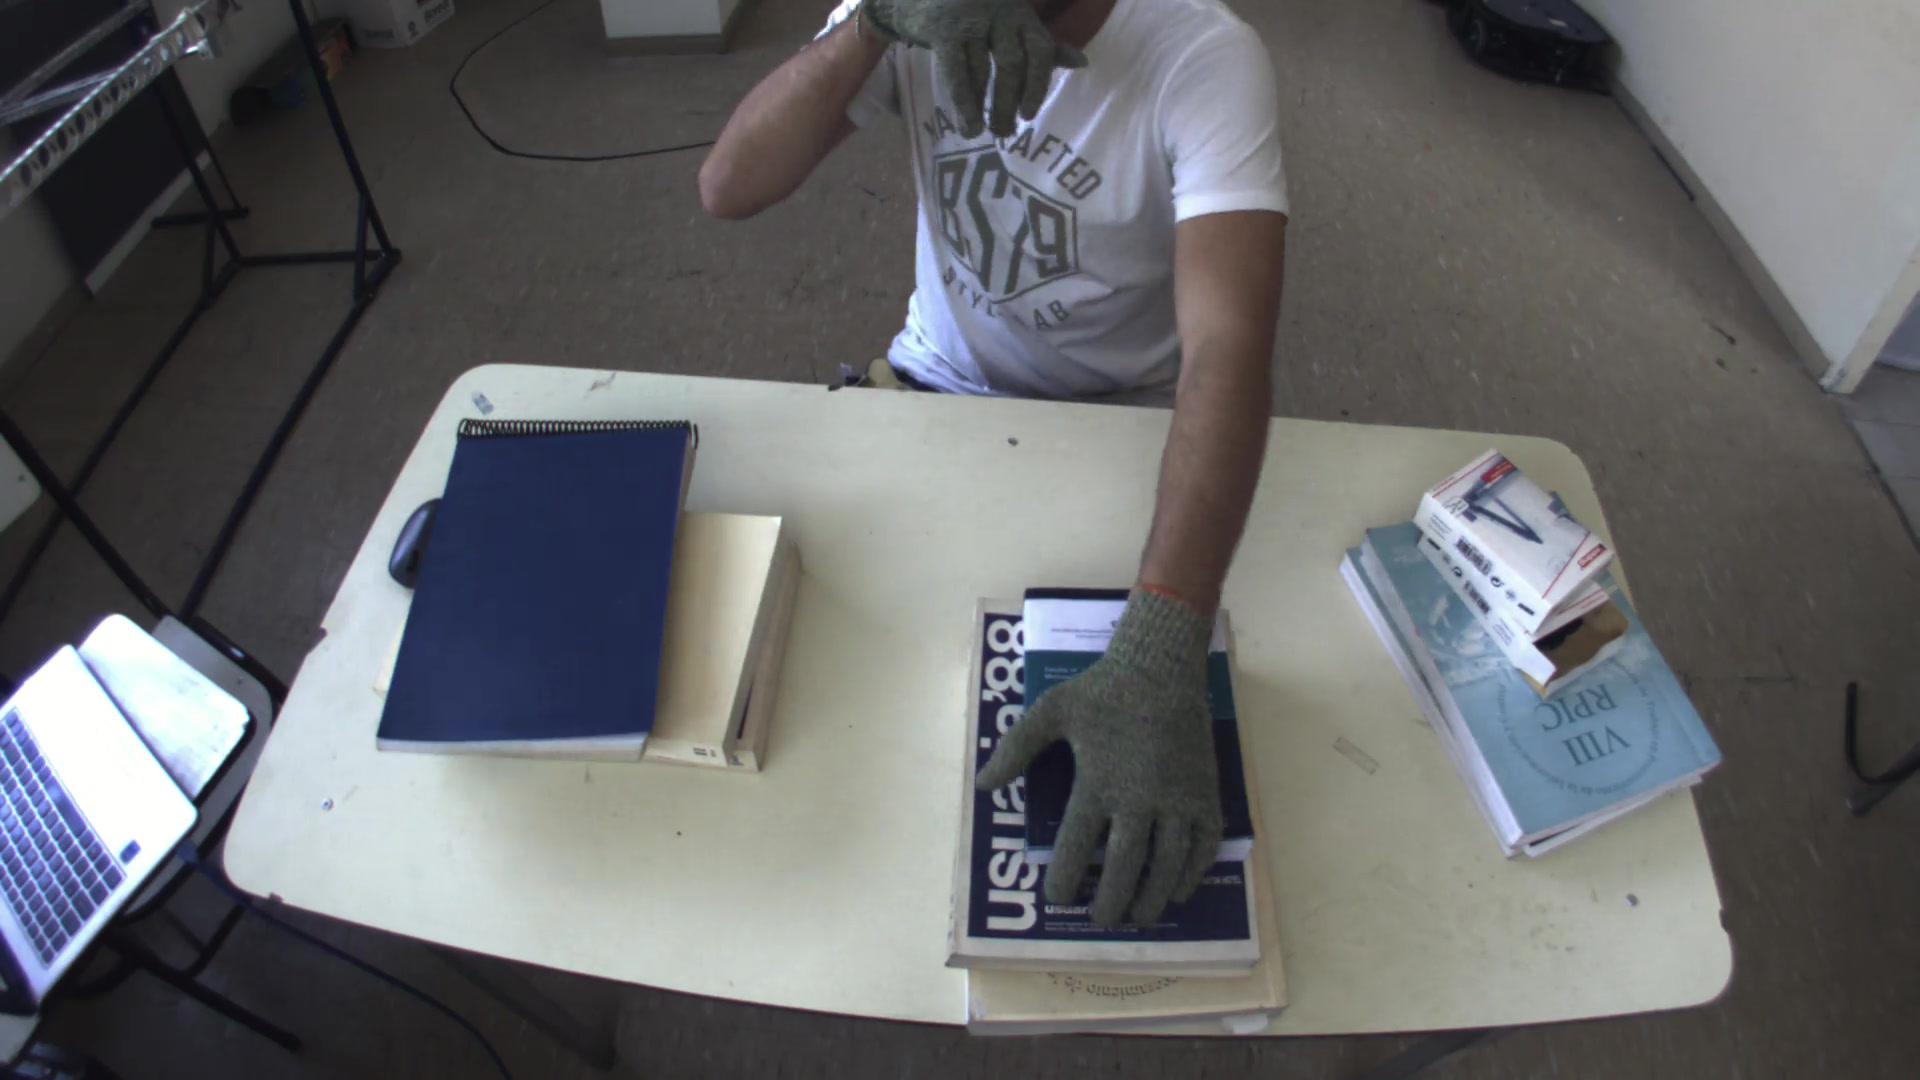hand: (963, 585, 1241, 944)
